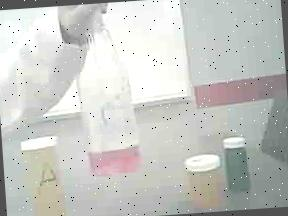Bottle A: (16, 130, 71, 216)
Bottle B: (182, 149, 224, 212)
Bottle C: (222, 130, 258, 196)
hazard: (70, 2, 152, 183)
